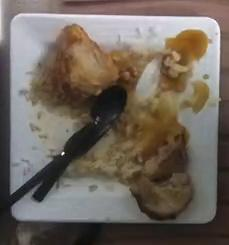pork: (33, 24, 120, 105)
potato: (129, 141, 192, 219)
